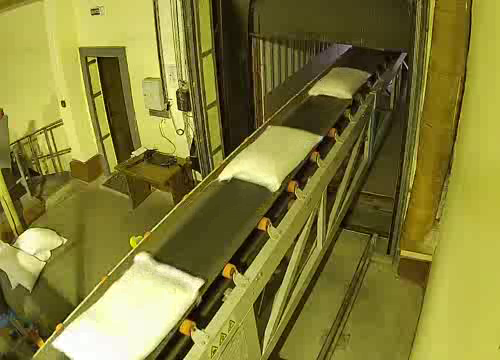bag: (44, 249, 213, 360), (218, 122, 324, 193), (306, 64, 374, 101)
